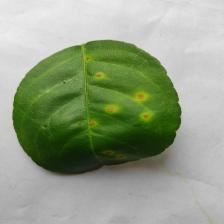canker: (62, 54, 164, 160)
